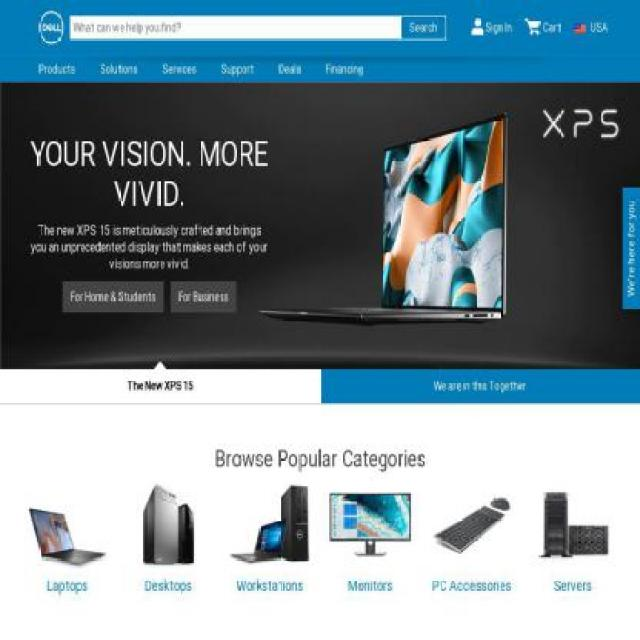button: (29, 134, 269, 272), (219, 480, 321, 603), (522, 480, 624, 603), (0, 368, 320, 404), (320, 368, 640, 404), (127, 480, 210, 595), (430, 480, 513, 595), (330, 480, 412, 595), (27, 480, 108, 595), (62, 280, 164, 312), (464, 0, 518, 55), (518, 0, 566, 55), (170, 280, 236, 312), (313, 57, 376, 81), (26, 57, 88, 81), (88, 57, 149, 81), (208, 57, 267, 81), (150, 57, 208, 81), (266, 57, 314, 81), (39, 10, 64, 47), (401, 17, 445, 38), (622, 187, 640, 211)
field: (70, 16, 447, 39)
